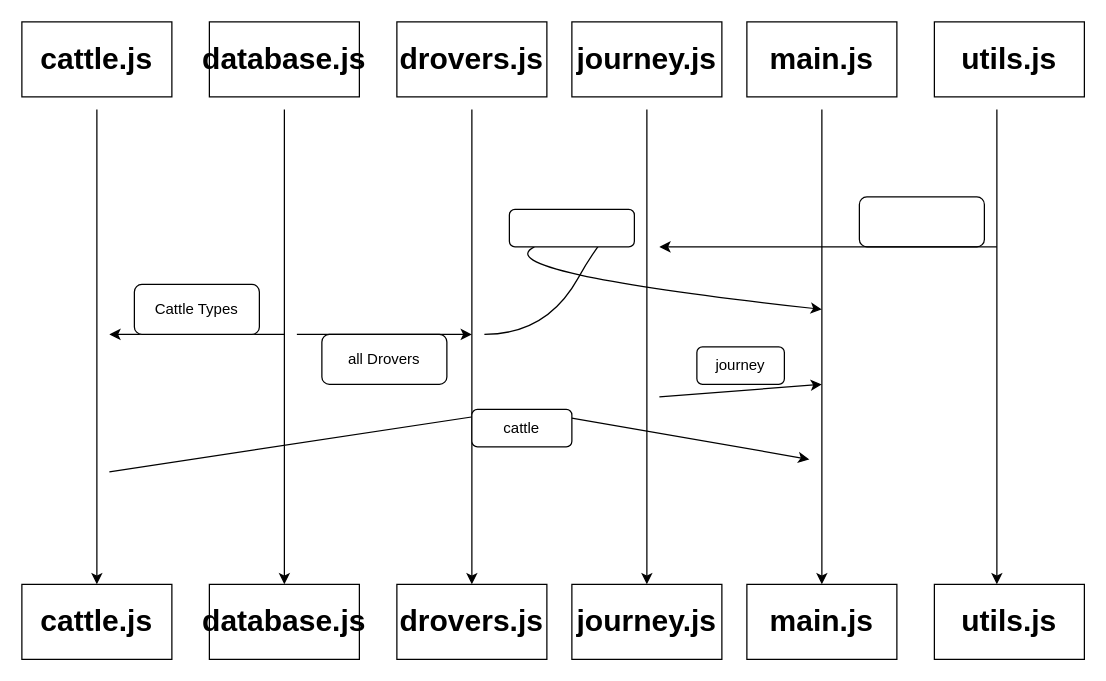
Image size: 1106x681. Some labels were removed from this diagram. Each missing label, with the centre of its shape:
Drovers: the point at 571,227
Randomize function: the point at 921,221
